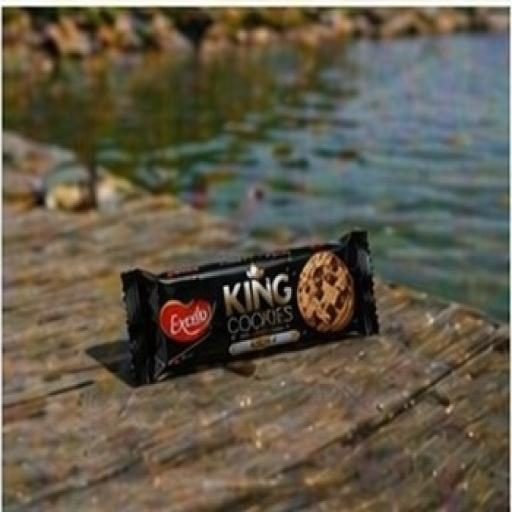king-cooking: (80, 182, 418, 401)
